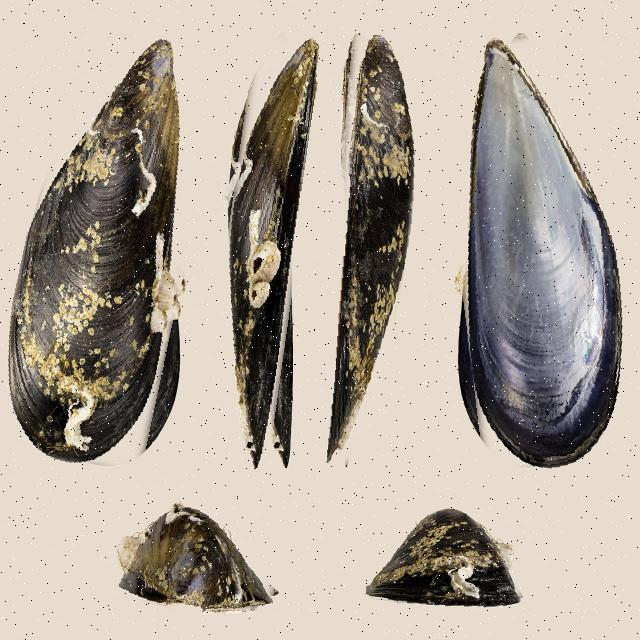Mytilus_galloprovincialis: (3, 22, 208, 472), (445, 30, 632, 473), (210, 29, 314, 478), (325, 34, 418, 467), (115, 498, 280, 617), (367, 507, 525, 610)
